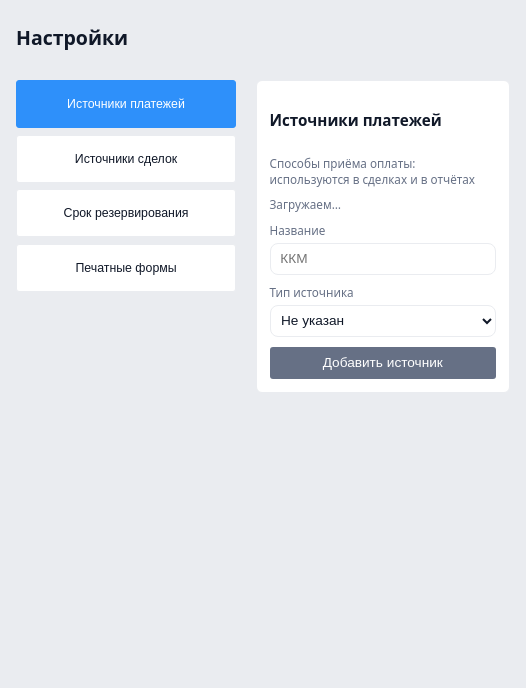
печатные формы в настройках › про пустую пометку об НДС сказано, что строки в документе не будет
Click the button "Печатные формы". click: click(126, 268)
box: [16,244,236,292]
(page scrolled)
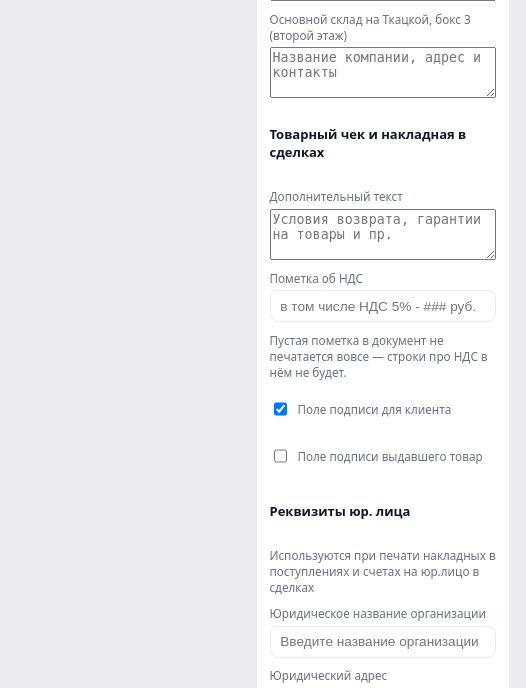
Expected: the text "Пустая пометка в документ не печатается вовсе" is shown, [270,332,488,380]
